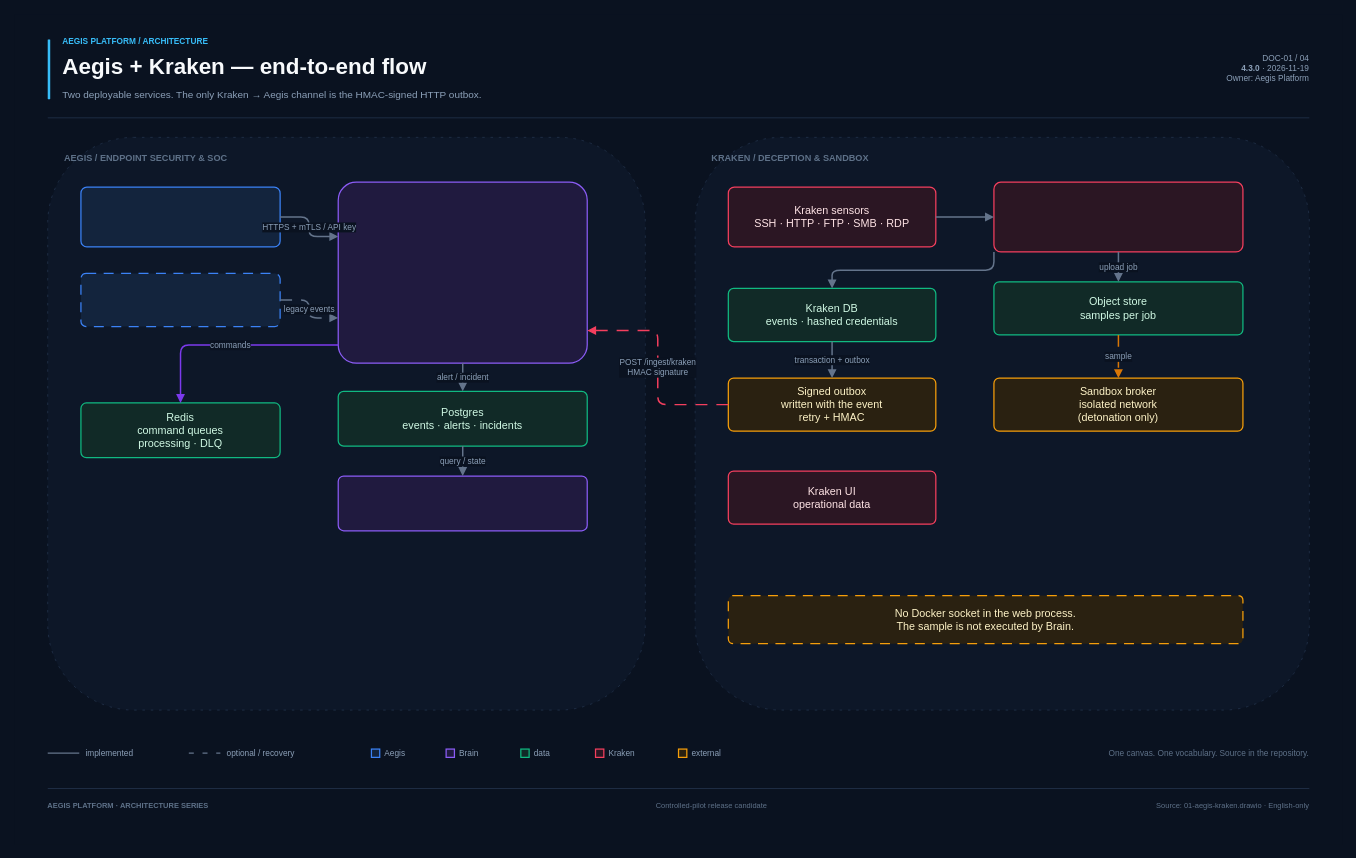
The diagram is 1356 pixels wide and 858 high, and some of its shapes have lost their labels. Here are the shapes that lost their labels. From the top down, the centre of each, then its label:
point 180,216: aegis-agent (Go) endpoint · sensor · unified
point 1118,216: Kraken API + UI sessions · campaigns · fleet
point 462,272: AEGIS BRAIN ingest · auth Sigma · correlation alerts · incidents commands
point 180,299: aegis-link (legacy) durable spool
point 462,503: Aegis UI / API unified timeline
